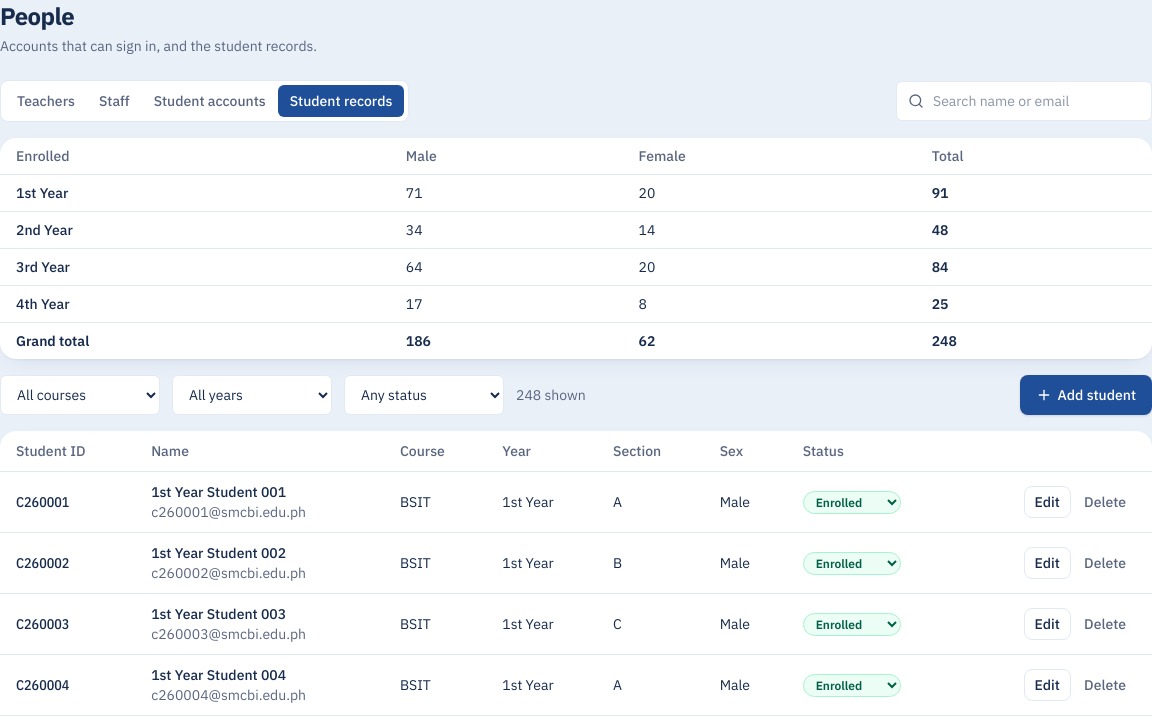
People › shows the error when adding a student with a duplicate ID
Click the button "Add student". click: (1086, 395)
box: [1020, 375, 1151, 415]
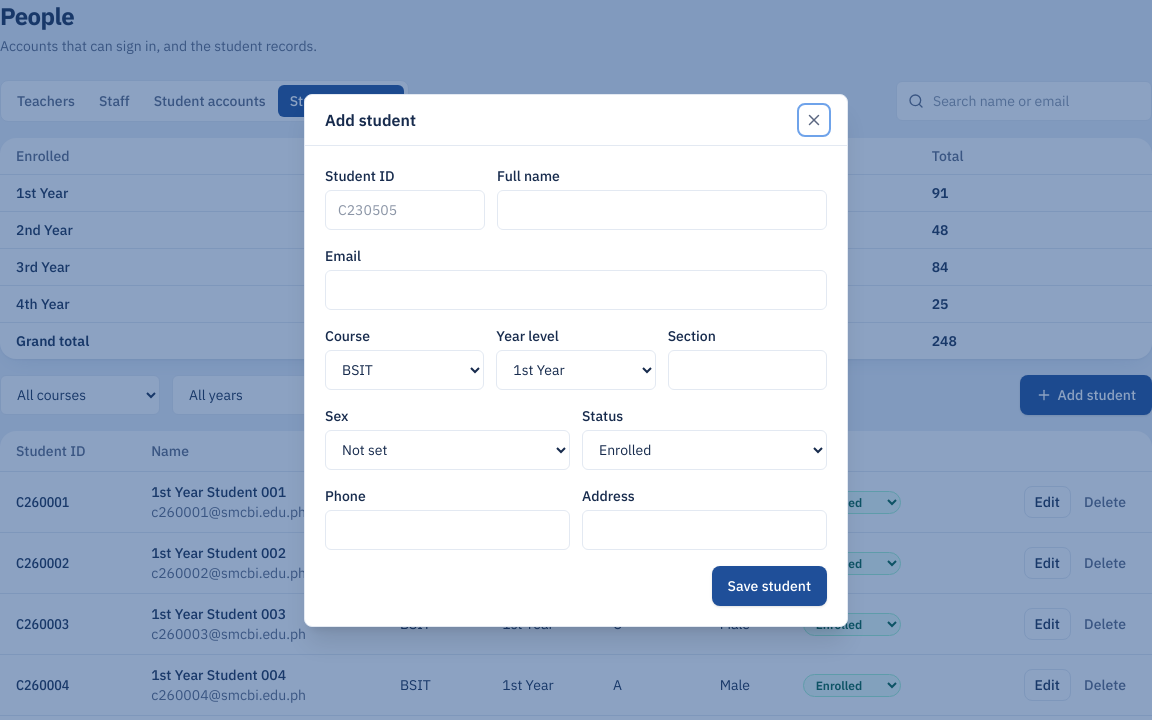
Type "C260001" into the field labelled "Student ID". click: (405, 210)
box: [325, 190, 485, 230]
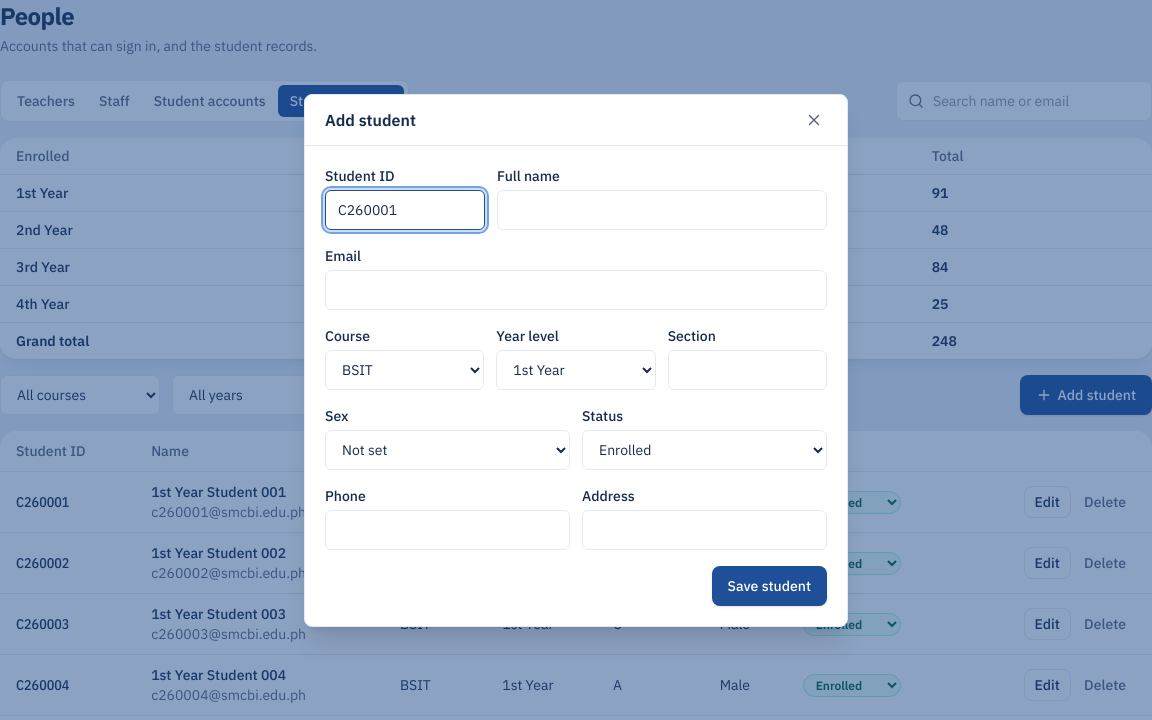
Type "Copy Cat" into the field labelled "Full name". click: (662, 210)
box: [497, 190, 827, 230]
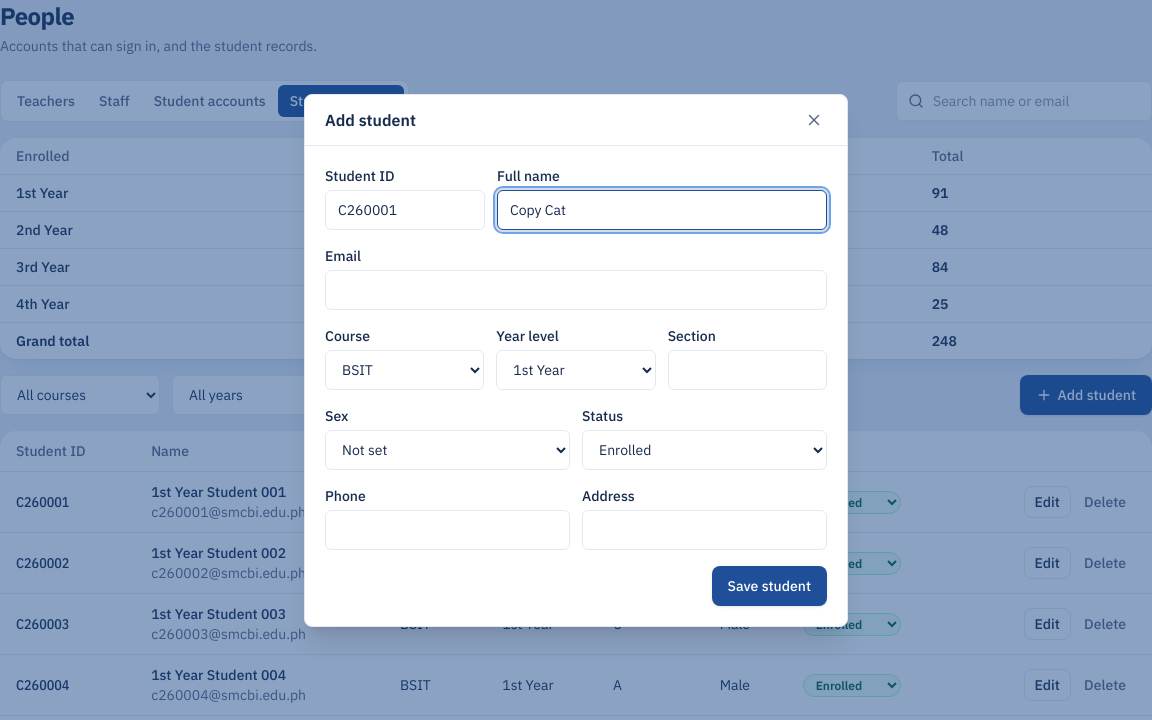
Type "copy@smcbi.edu.ph" into the field labelled "Email". click: (576, 290)
box: [325, 270, 827, 310]
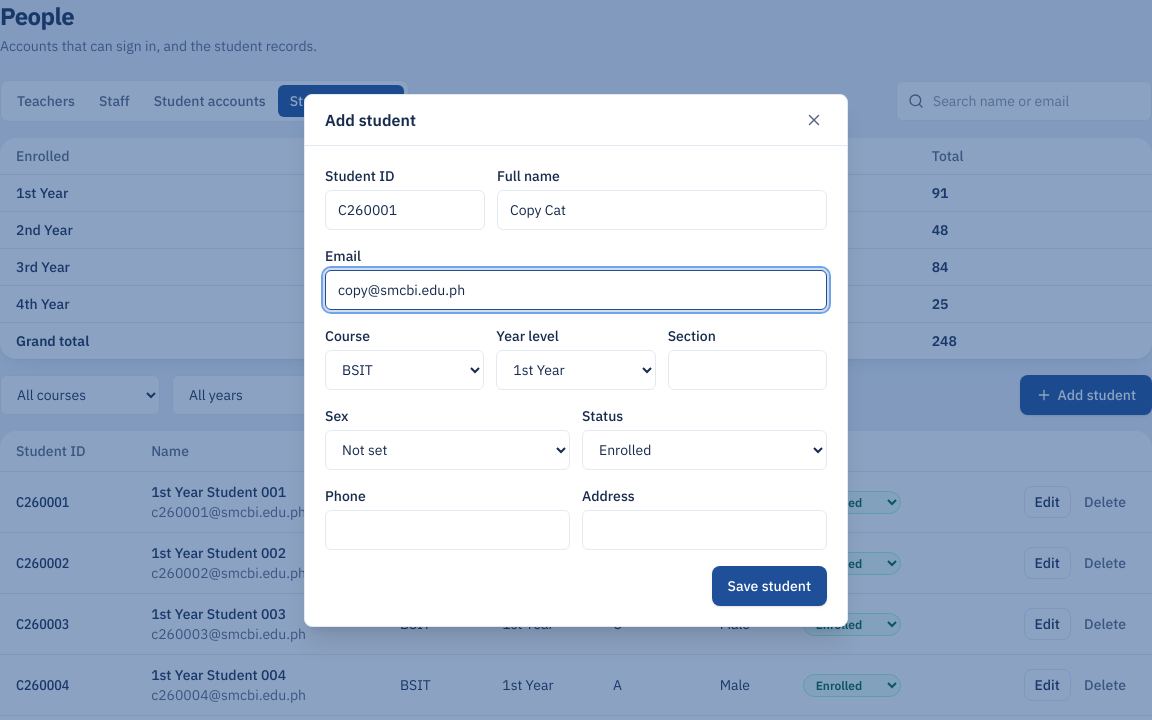
Type "A" into the field labelled "Section". click: (747, 370)
box: [668, 350, 827, 390]
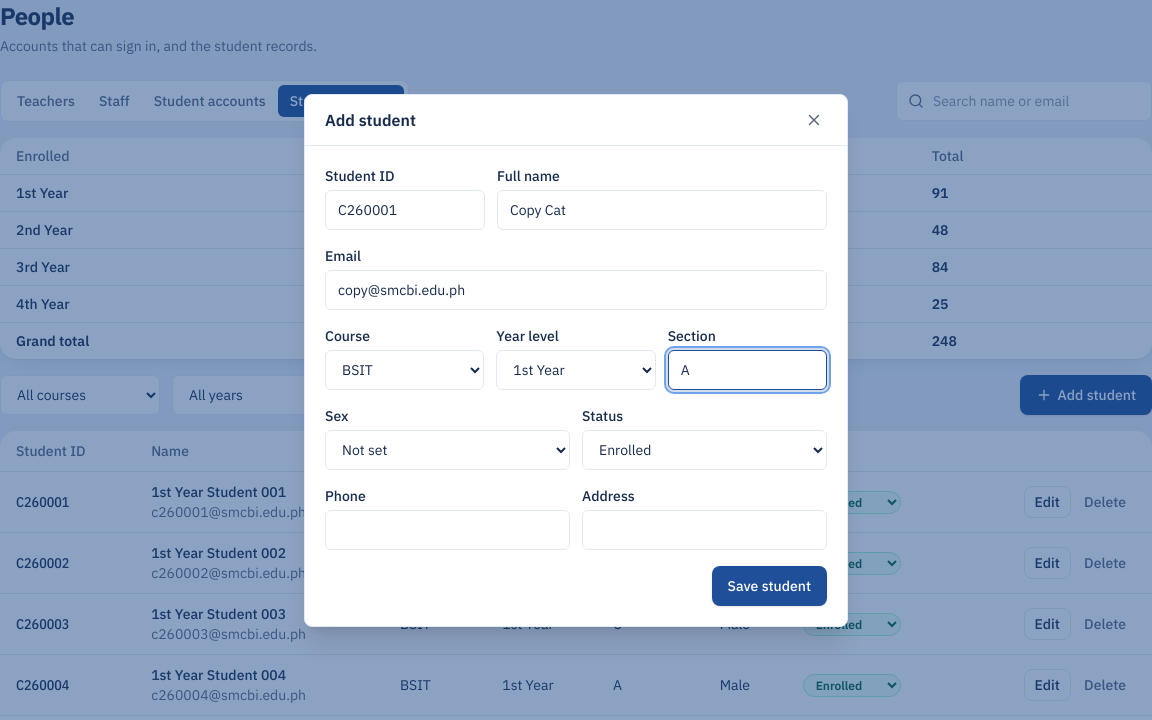
Click the button "Save student". click: (769, 586)
box: [712, 566, 827, 606]
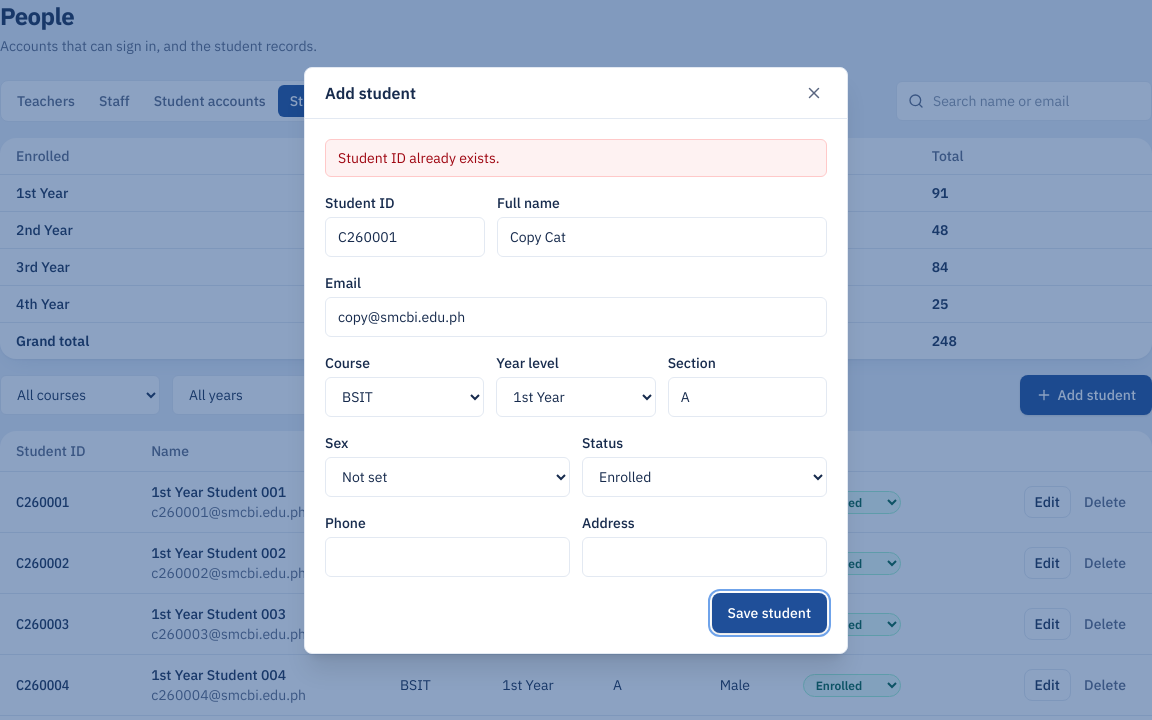
Expected: the message shows "Student ID already exists", [338, 148, 500, 166]
